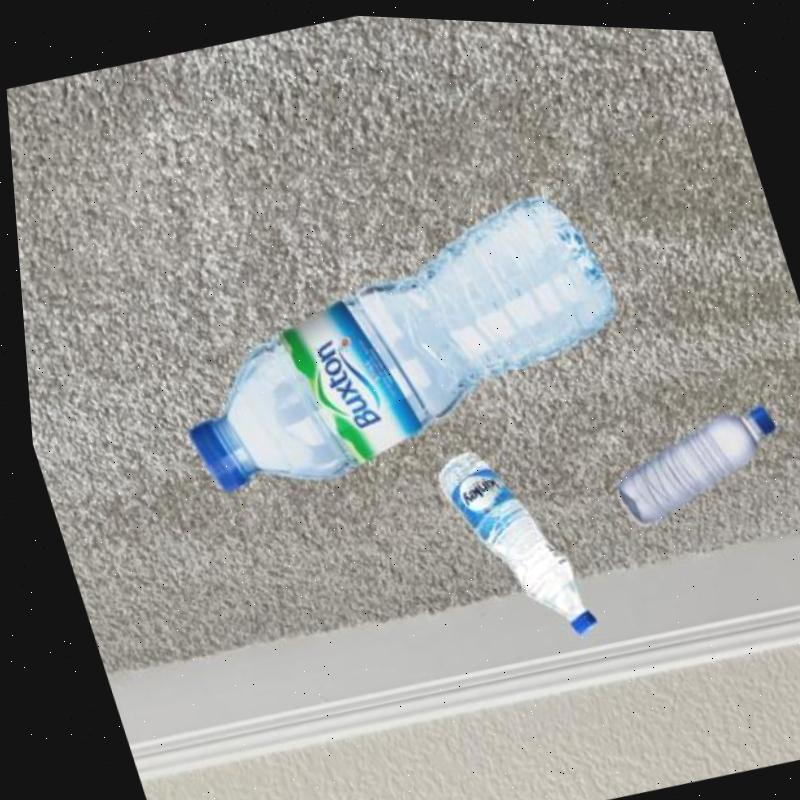botella: (130, 167, 652, 516), (419, 426, 591, 652), (588, 392, 791, 531)
